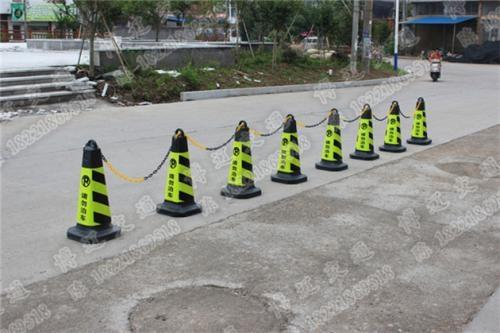cone_barrel: (63, 138, 120, 243), (154, 128, 201, 215), (217, 120, 262, 199), (270, 113, 307, 183), (313, 107, 347, 170), (348, 102, 377, 159), (379, 97, 406, 150), (406, 94, 431, 143)
